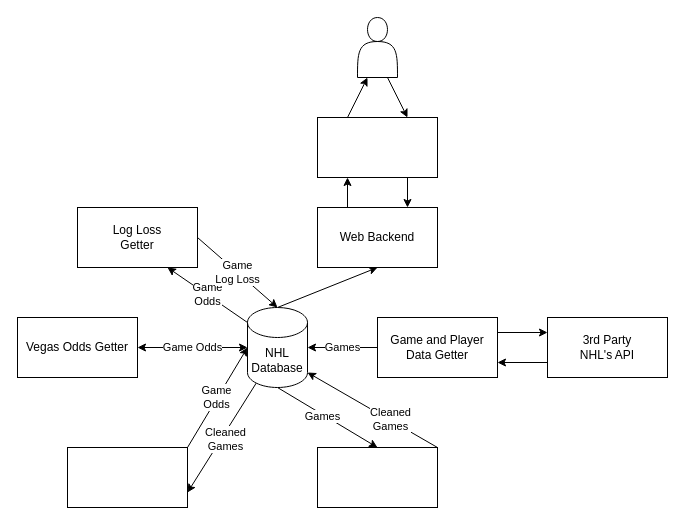
The diagram is 685 pixels wide and 525 high, and some of its shapes have lost their labels. The shapes that lost their labels are listed below. From the top down, each one's box as (x1, y1, x2, y2) in pixels, then its label:
(316, 116, 438, 178): Web Frontend
(66, 446, 188, 508): Game Predictor
(316, 446, 438, 508): Game Cleaner
